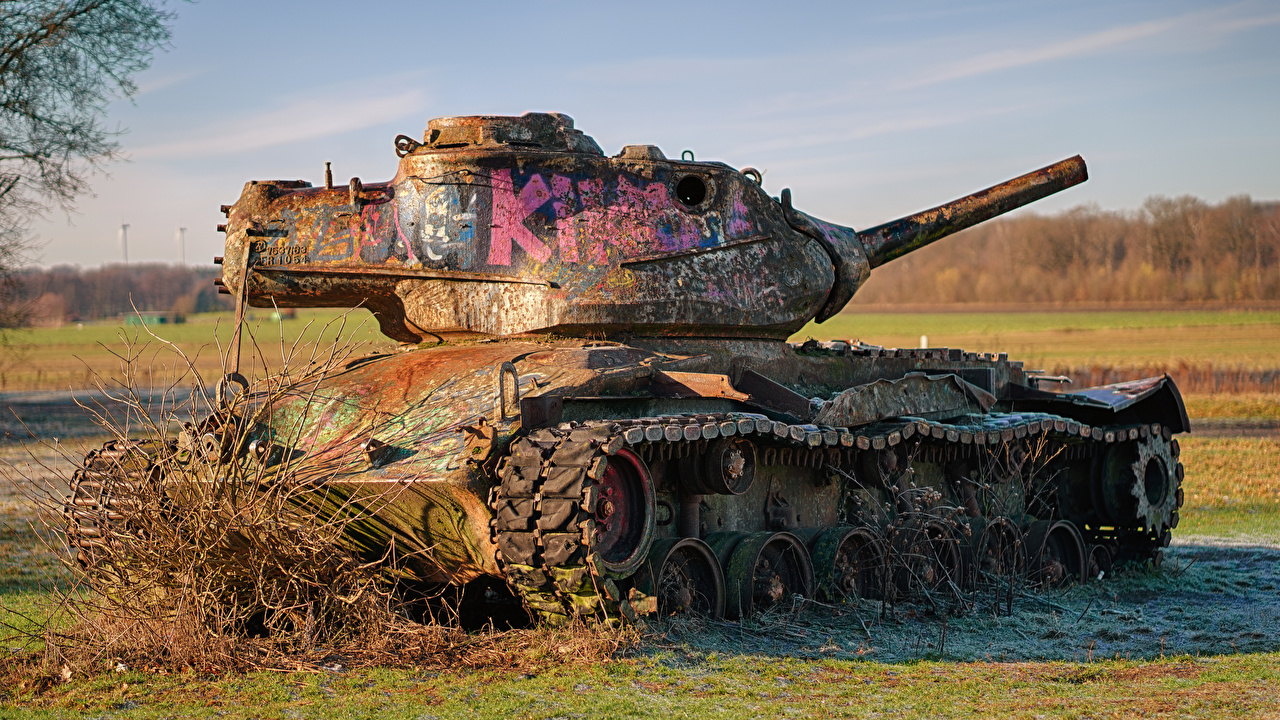tank: (61, 100, 1251, 637)
